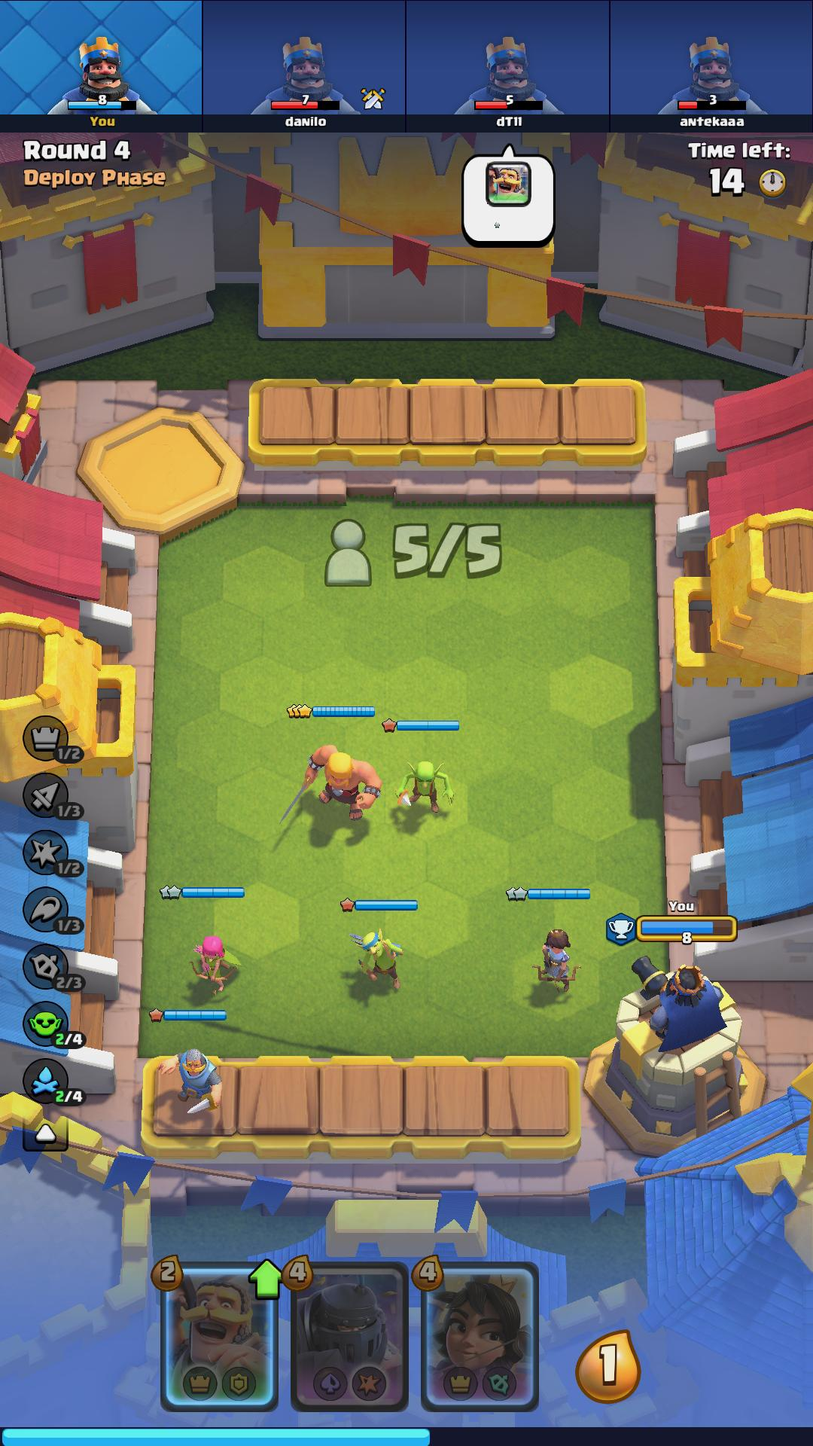archer: (190, 929, 239, 995)
barbarian: (291, 730, 382, 825)
goblin: (391, 747, 457, 823)
hand-knight: (162, 1264, 275, 1406)
hand-mega: (289, 1266, 409, 1408)
hand-princess: (421, 1261, 533, 1406)
knight: (158, 1044, 226, 1119)
princess: (525, 920, 584, 998)
spear: (356, 920, 406, 990)
upgrade: (251, 1259, 283, 1299)
